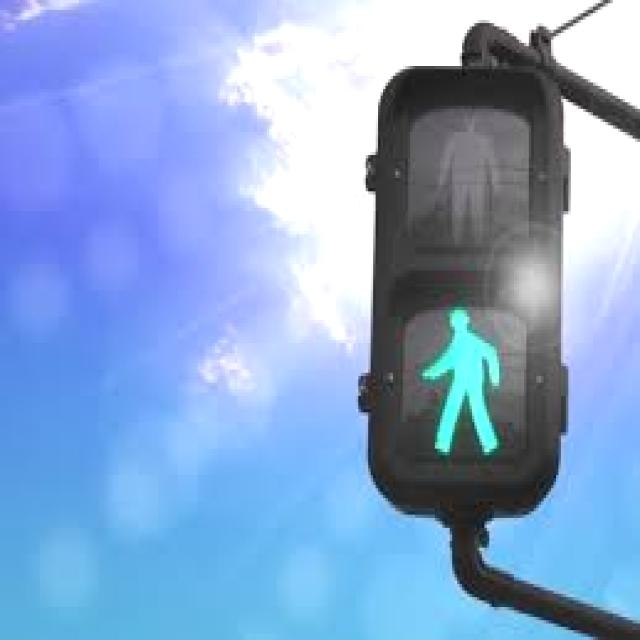trafficlight: (368, 63, 561, 511)
